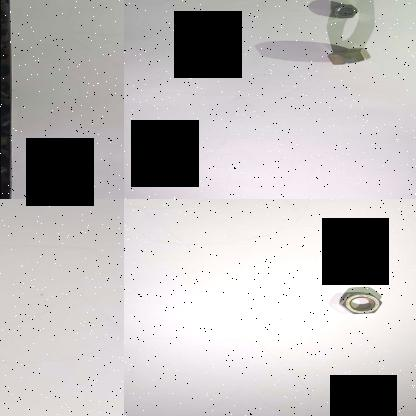NUTS: (328, 287, 395, 319), (316, 45, 379, 67), (320, 0, 367, 23), (330, 249, 378, 271)
